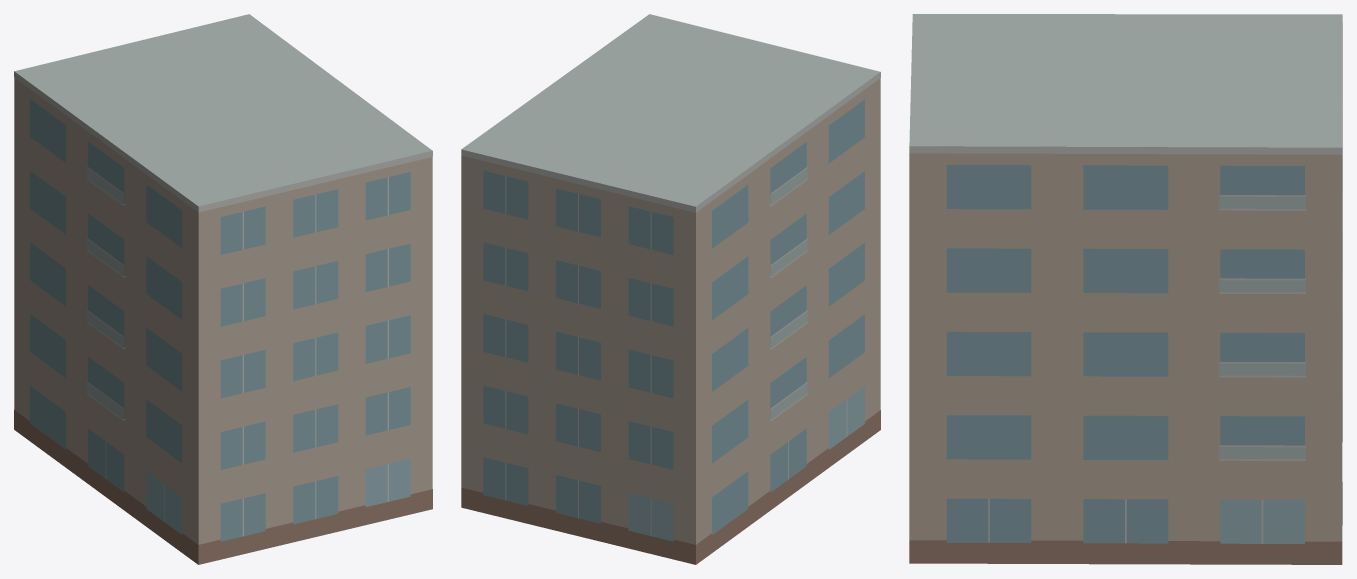
Rendered from survey-upis-32892447.glb.
3 views of the same model, side by side, from view 1: azimuth 30°, elevation 25°; view 2: azimuth 150°, elevation 25°; view 3: azimuth 270°, elevation 25° (orthographic). The views are drawn at different scales.
Visible parts, largest first — view 1: survey-upis-32892447.tmp; view 2: survey-upis-32892447.tmp; view 3: survey-upis-32892447.tmp.
Boxes of the visible parts, bbox=[...] form: survey-upis-32892447.tmp: bbox=[14, 14, 432, 564]; survey-upis-32892447.tmp: bbox=[461, 14, 880, 564]; survey-upis-32892447.tmp: bbox=[909, 14, 1342, 564].
Size of the model in its own units: 9.96 by 14.4 by 13.56.
